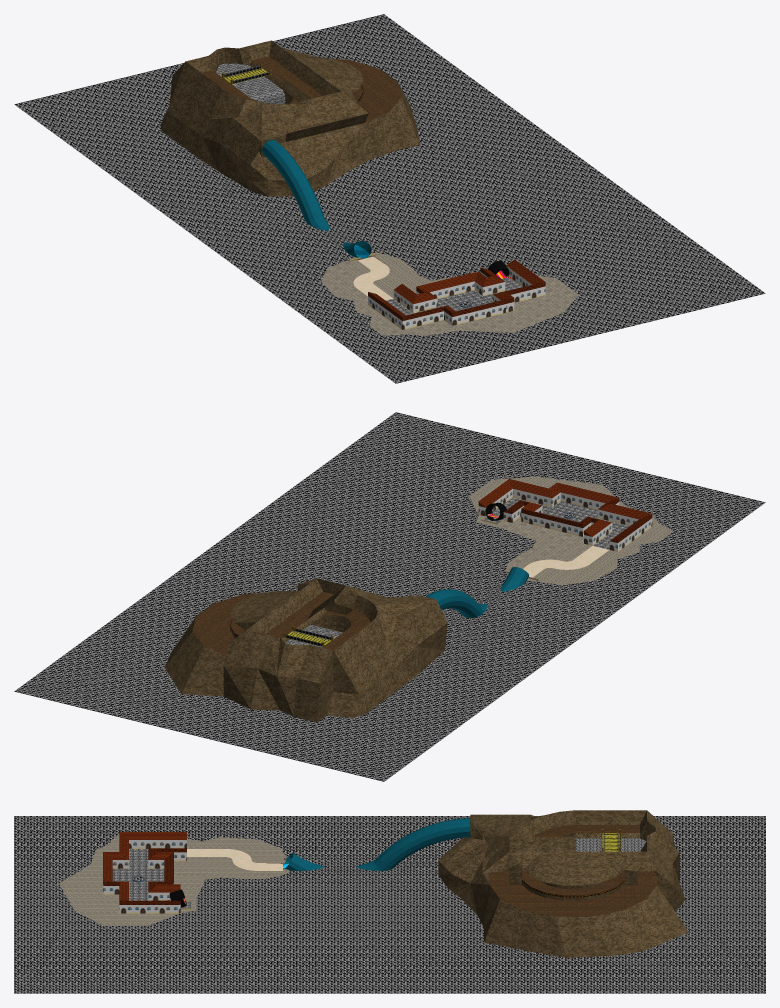
The picture shows the model from 3 angles, top to bottom: view 1: azimuth 30°, elevation 25°; view 2: azimuth 150°, elevation 25°; view 3: azimuth 270°, elevation 25°; orthographic projection.
Parts seen in each view (by area): view 1: Lonely_Island-SKP--ef_wave1P_Mip, Lonely_Island-SKP--Wand3, Lonely_Island-SKP--Sand1, Lonely_Island-SKP--Hauswand1, Lonely_Island-SKP--Boden3, Lonely_Island-SKP--Dach1, Lonely_Island-SKP--Glas1, Lonely_Island-SKP--ef_yoganAmi0, Lonely_Island-SKP--Boden1, Lonely_Island-SKP--Sandweg1; view 2: Lonely_Island-SKP--ef_wave1P_Mip, Lonely_Island-SKP--Wand3, Lonely_Island-SKP--Sand1, Lonely_Island-SKP--Boden3, Lonely_Island-SKP--Dach1, Lonely_Island-SKP--Hauswand1, Lonely_Island-SKP--Glas1, Lonely_Island-SKP--Boden1, Lonely_Island-SKP--Sandweg1; view 3: Lonely_Island-SKP--ef_wave1P_Mip, Lonely_Island-SKP--Wand3, Lonely_Island-SKP--Sand1, Lonely_Island-SKP--Boden3, Lonely_Island-SKP--Dach1, Lonely_Island-SKP--Glas1, Lonely_Island-SKP--Hauswand1, Lonely_Island-SKP--Boden1, Lonely_Island-SKP--Sandweg1, Lonely_Island-SKP--ef_yoganAmi0, Lonely_Island-SKP--Br_cke1.
Boxes of the visible parts, box(x1,y1,x2,y2) form: Lonely_Island-SKP--ef_wave1P_Mip: box(14, 14, 765, 383); Lonely_Island-SKP--Wand3: box(160, 40, 420, 262); Lonely_Island-SKP--Sand1: box(321, 252, 578, 335); Lonely_Island-SKP--Hauswand1: box(368, 266, 545, 329); Lonely_Island-SKP--Boden3: box(202, 56, 400, 147); Lonely_Island-SKP--Dach1: box(368, 260, 545, 321); Lonely_Island-SKP--Glas1: box(262, 140, 371, 257); Lonely_Island-SKP--ef_yoganAmi0: box(216, 63, 285, 104); Lonely_Island-SKP--Boden1: box(386, 276, 522, 315); Lonely_Island-SKP--Sandweg1: box(353, 256, 392, 300); Lonely_Island-SKP--ef_wave1P_Mip: box(14, 412, 765, 781); Lonely_Island-SKP--Wand3: box(165, 568, 538, 722); Lonely_Island-SKP--Sand1: box(469, 476, 672, 585); Lonely_Island-SKP--Boden3: box(192, 592, 370, 655); Lonely_Island-SKP--Dach1: box(478, 479, 652, 542); Lonely_Island-SKP--Hauswand1: box(478, 488, 652, 551); Lonely_Island-SKP--Glas1: box(425, 567, 528, 618); Lonely_Island-SKP--Boden1: box(483, 497, 629, 549); Lonely_Island-SKP--Sandweg1: box(523, 546, 608, 577); Lonely_Island-SKP--ef_wave1P_Mip: box(14, 816, 765, 993); Lonely_Island-SKP--Wand3: box(267, 810, 688, 957); Lonely_Island-SKP--Sand1: box(59, 835, 289, 925); Lonely_Island-SKP--Boden3: box(489, 825, 656, 916); Lonely_Island-SKP--Dach1: box(103, 832, 186, 904); Lonely_Island-SKP--Glas1: box(284, 818, 470, 870); Lonely_Island-SKP--Hauswand1: box(103, 840, 186, 913); Lonely_Island-SKP--Boden1: box(112, 849, 190, 908); Lonely_Island-SKP--Sandweg1: box(187, 849, 283, 870); Lonely_Island-SKP--ef_yoganAmi0: box(575, 838, 646, 851); Lonely_Island-SKP--Br_cke1: box(601, 833, 620, 851).
Size of the model in its own units: 67205 by 13556 by 120094.
22 materials, 22 textured.
